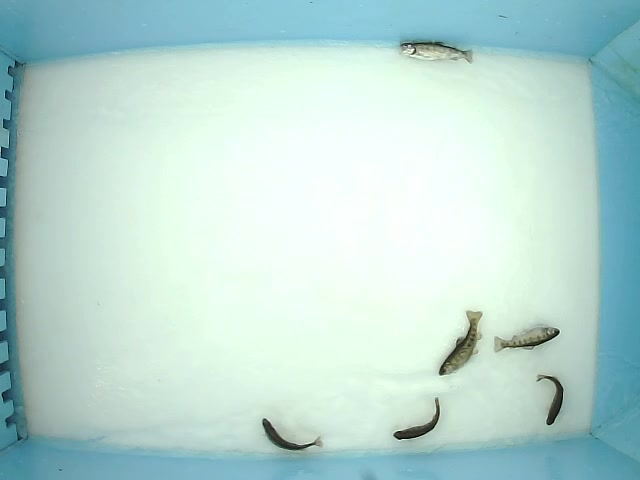fish: (436, 309, 486, 378), (261, 417, 324, 452), (392, 395, 441, 440), (492, 324, 561, 355), (398, 41, 475, 66), (535, 372, 565, 426)
